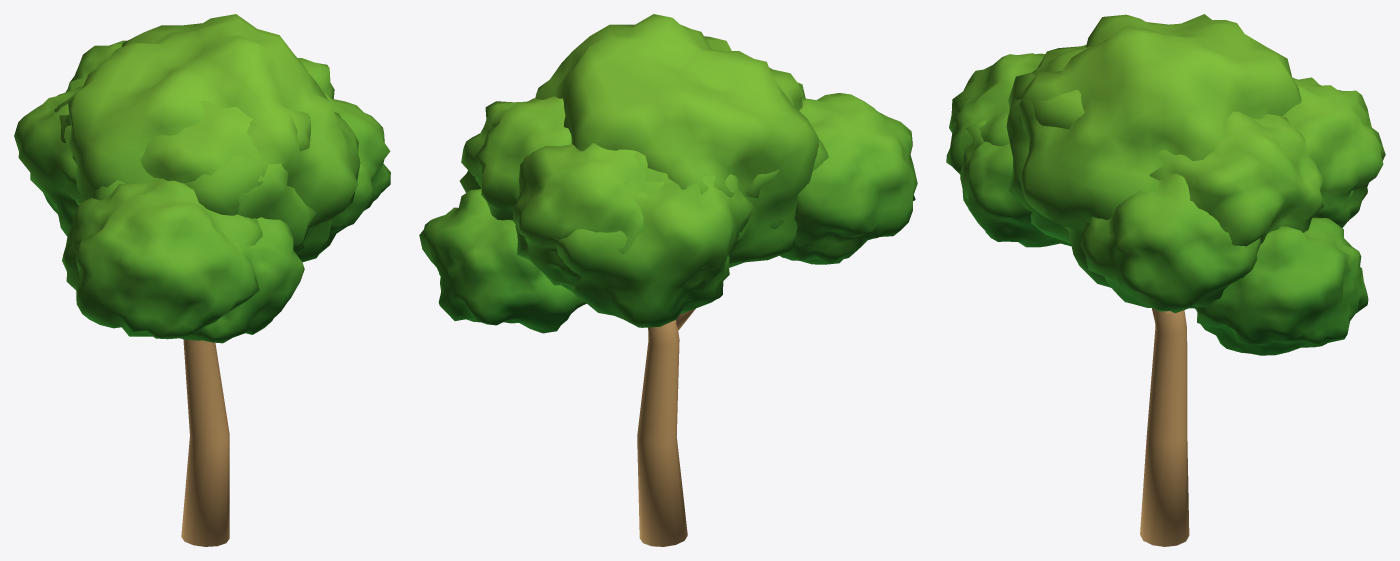
Rendered from tree_a.glb.
The picture shows the model from 3 angles, left to right: view 1: azimuth 30°, elevation 25°; view 2: azimuth 150°, elevation 25°; view 3: azimuth 270°, elevation 25°; orthographic projection. The views are drawn at different scales.
Visible parts, largest first — view 1: tree_a; view 2: tree_a; view 3: tree_a.
Boxes of the visible parts, x1,y1,x2,y2 form: tree_a: (14,14,390,546); tree_a: (419,14,917,546); tree_a: (946,14,1385,546).
Bounding box in the file's own units: 5.25 × 6.91 × 5.34.
